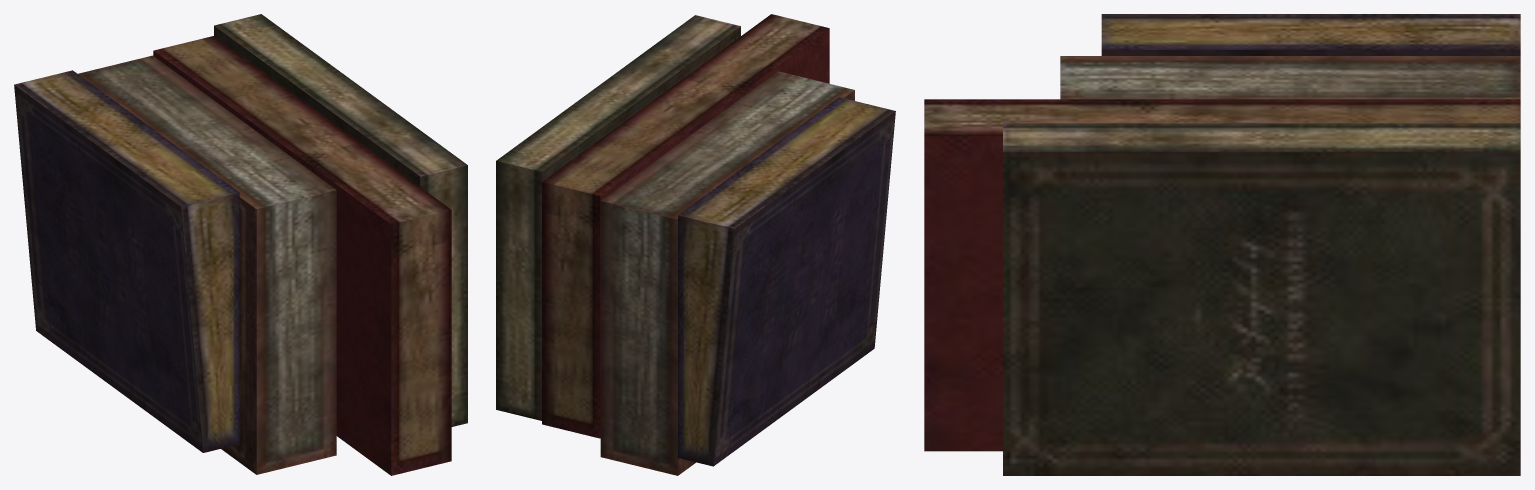
File: prop_book1.glb
3 views of the same model, side by side, from view 1: azimuth 30°, elevation 25°; view 2: azimuth 150°, elevation 25°; view 3: azimuth 270°, elevation 25° (orthographic). The views are drawn at different scales.
Bounding box in the file's own units: 8.8 × 9.54 × 14.66.
Materials: 1 (1 with a texture image).
